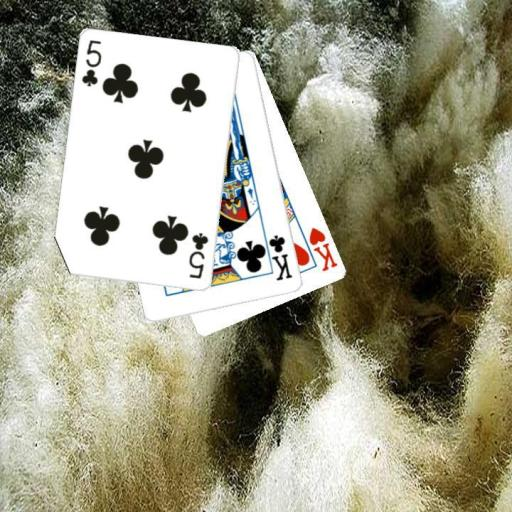5C: (78, 37, 104, 89), (186, 230, 210, 281)
KC: (261, 230, 295, 282)
KH: (306, 224, 340, 273)
